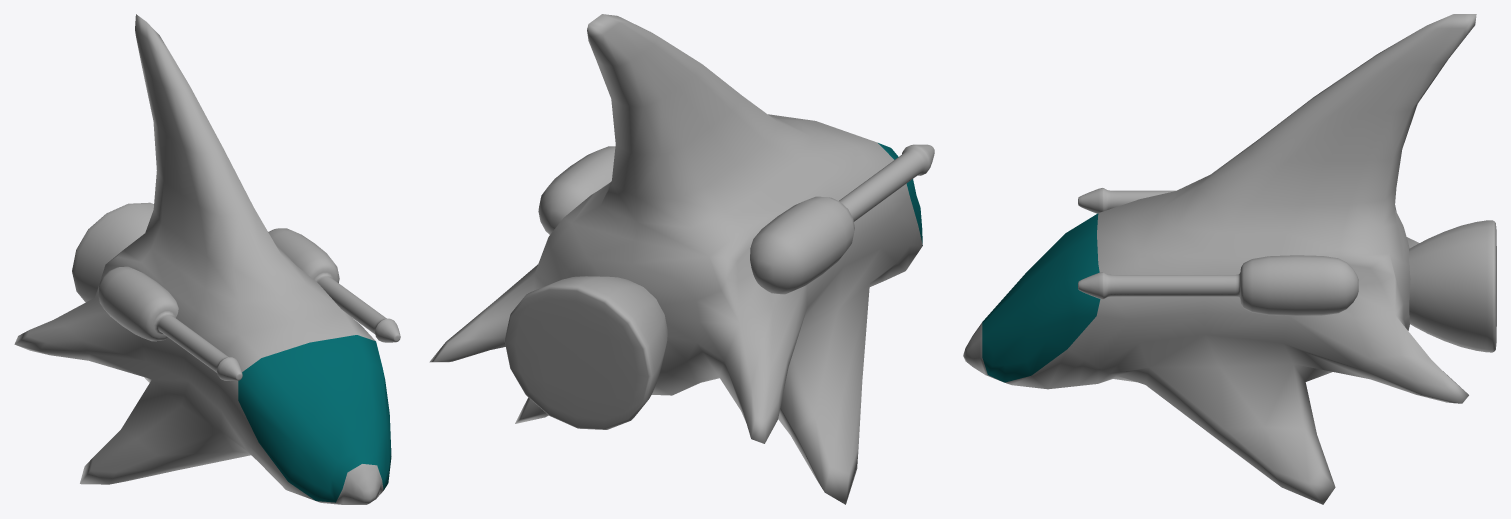
Rendered from Fighter_Squad.fbx.
The picture shows the model from 3 angles, left to right: view 1: azimuth 30°, elevation 25°; view 2: azimuth 150°, elevation 25°; view 3: azimuth 270°, elevation 25°; orthographic projection. The views are drawn at different scales.
Visible parts, largest first — view 1: pCube1, pCylinder3, pCylinder1, pCylinder2; view 2: pCube1, pCylinder1, pCylinder3, pCylinder2; view 3: pCube1, pCylinder2, pCylinder1, pCylinder3.
Boxes of the visible parts, x1=… form: pCube1: x1=14, y1=14, x2=391, y2=504; pCylinder3: x1=98, y1=266, x2=242, y2=380; pCylinder1: x1=72, y1=202, x2=153, y2=302; pCylinder2: x1=268, y1=228, x2=400, y2=342; pCube1: x1=429, y1=14, x2=922, y2=504; pCylinder1: x1=504, y1=276, x2=667, y2=429; pCylinder3: x1=750, y1=144, x2=934, y2=294; pCylinder2: x1=538, y1=146, x2=615, y2=234; pCube1: x1=963, y1=14, x2=1476, y2=504; pCylinder2: x1=1078, y1=255, x2=1358, y2=316; pCylinder1: x1=1409, y1=220, x2=1496, y2=352; pCylinder3: x1=1078, y1=188, x2=1175, y2=213.
Size of the model in its own units: 6.49 by 9.38 by 10.72.
